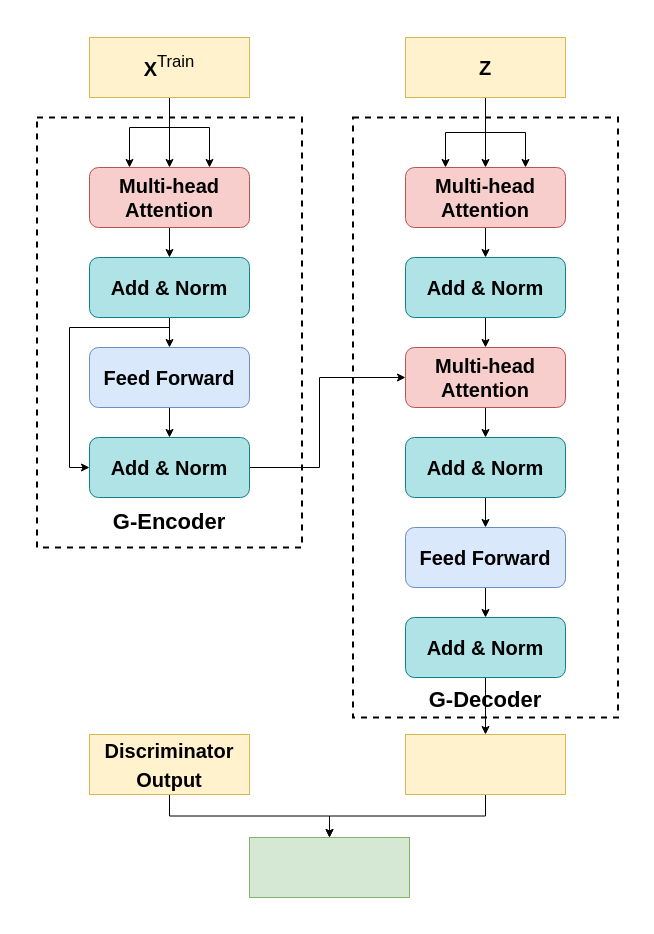
The diagram is 654 pixels wide and 934 high, and some of its shapes have lost their labels. Each missing label, with the centre of its shape:
G Loss: pixel 329 867
Generated Sample: pixel 485 764
